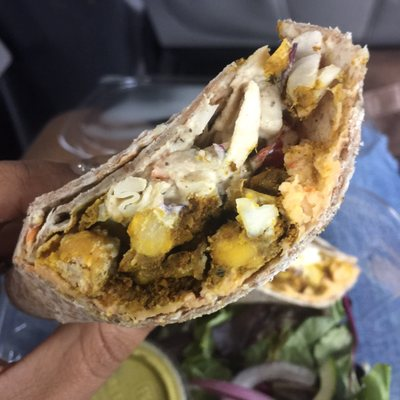soup: (8, 23, 366, 336)
